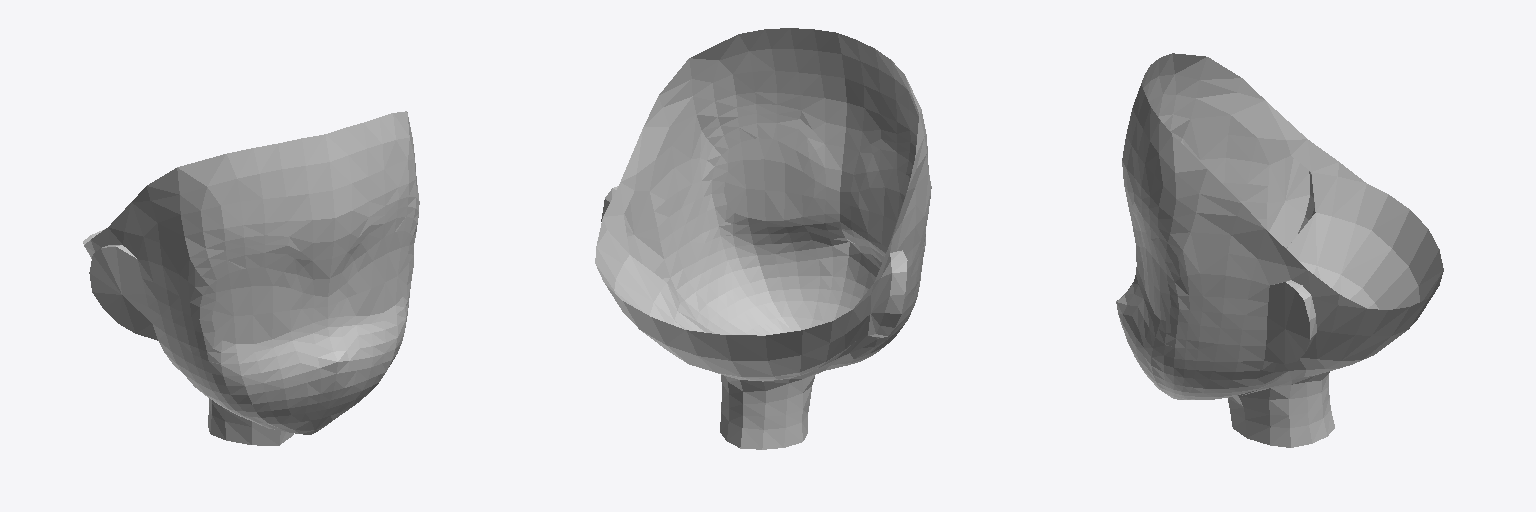
The model's file is AnimeHead.obj.
3 renders of one model, left to right at view 1: azimuth 30°, elevation 25°; view 2: azimuth 150°, elevation 25°; view 3: azimuth 270°, elevation 25°, orthographic.
Visible parts, largest first — view 1: nepgear_body1_model0; view 2: nepgear_body1_model0; view 3: nepgear_body1_model0.
Boxes of the visible parts, <box> form: nepgear_body1_model0: <box>83,111,419,445</box>; nepgear_body1_model0: <box>595,28,931,449</box>; nepgear_body1_model0: <box>1116,53,1443,447</box>.
Bounding box in the file's own units: 7.53 × 8.17 × 7.04.